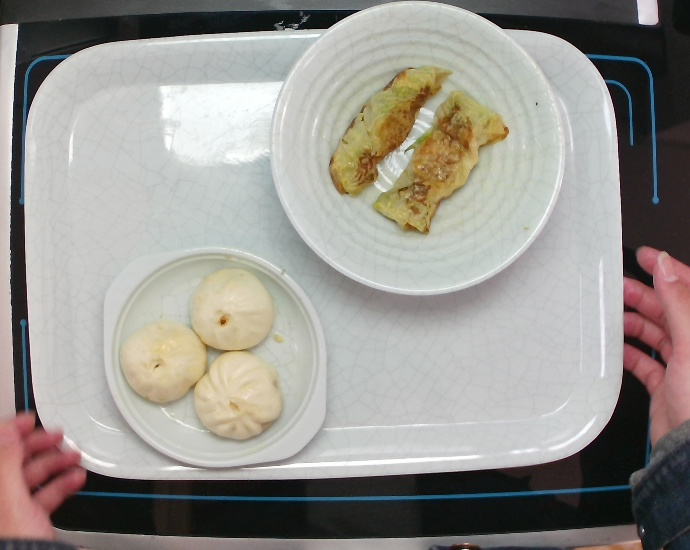JYsf-Shuang_Er_Pan: (96, 241, 332, 481)
JYsf-Xiao_Tang_Wan: (264, 1, 570, 300)
